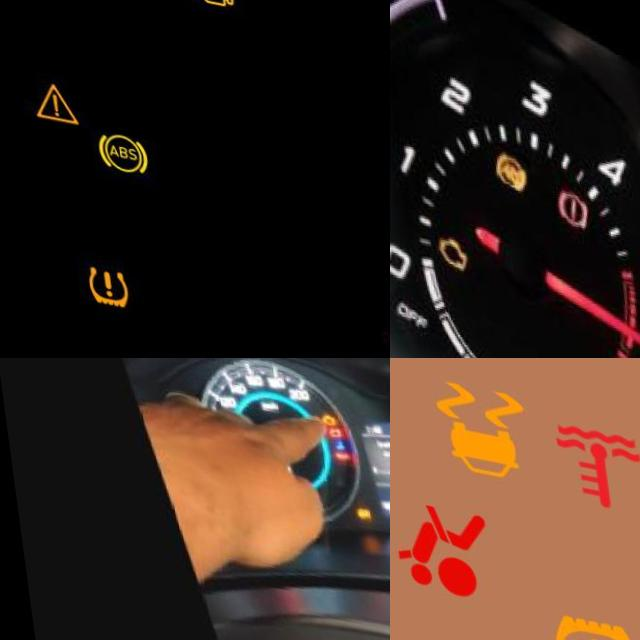High Engine Coolant Temperature: (530, 382, 640, 516), (325, 430, 339, 443)
